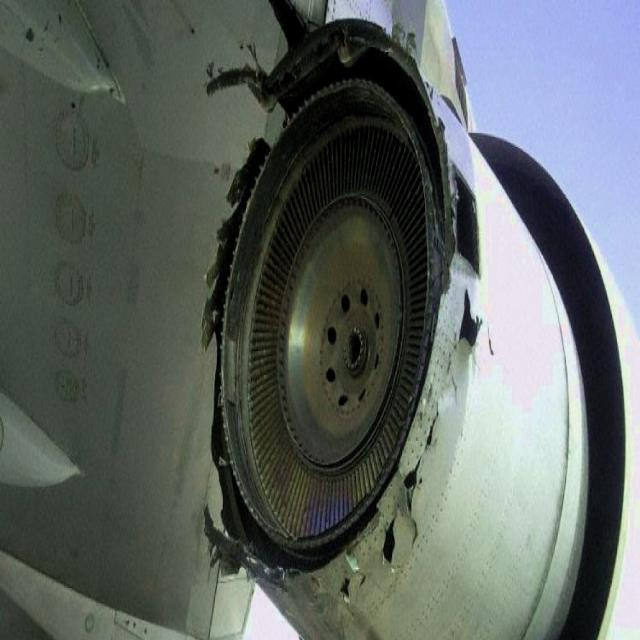crack: (342, 292, 495, 601)
